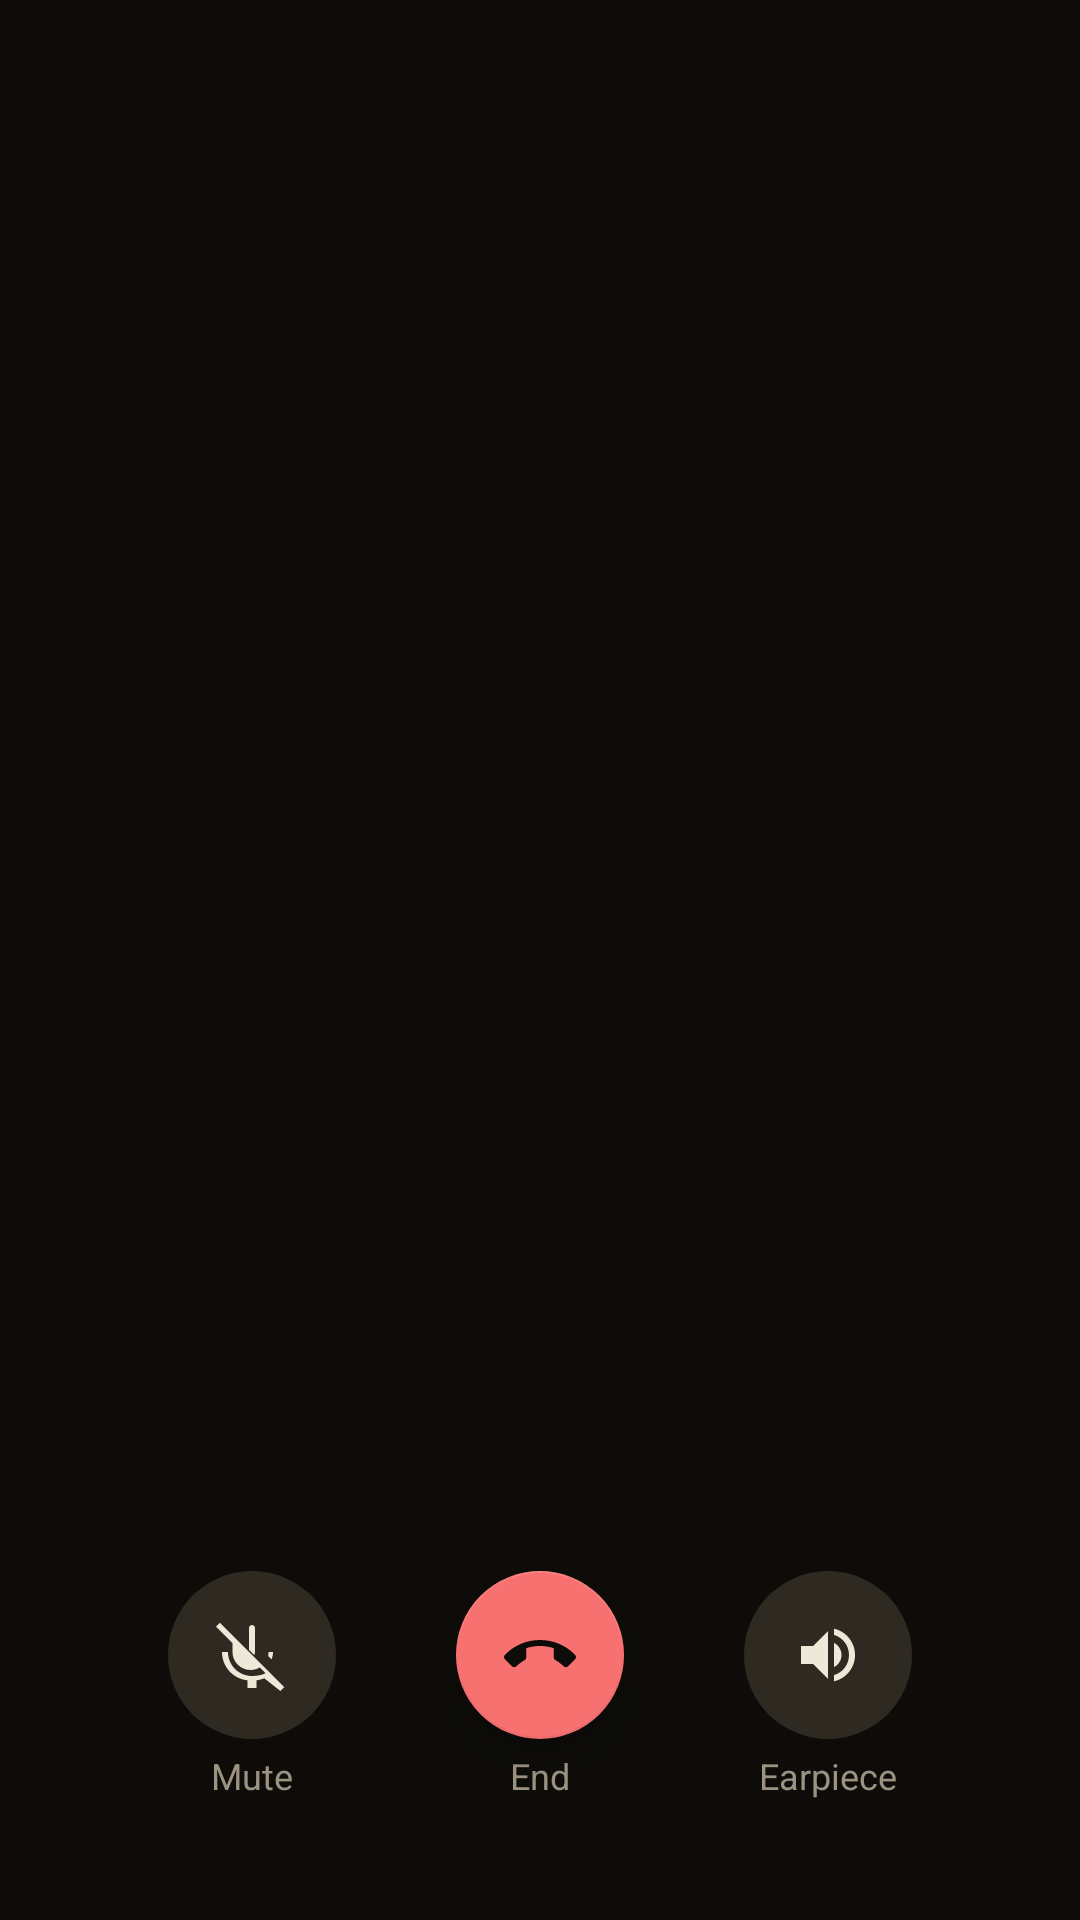

Screen size 1080px×1920px. Icon name, then its box in pixels as bbox(x1, y1, x2, y2):
Speaker: bbox(744, 1571, 912, 1739)
